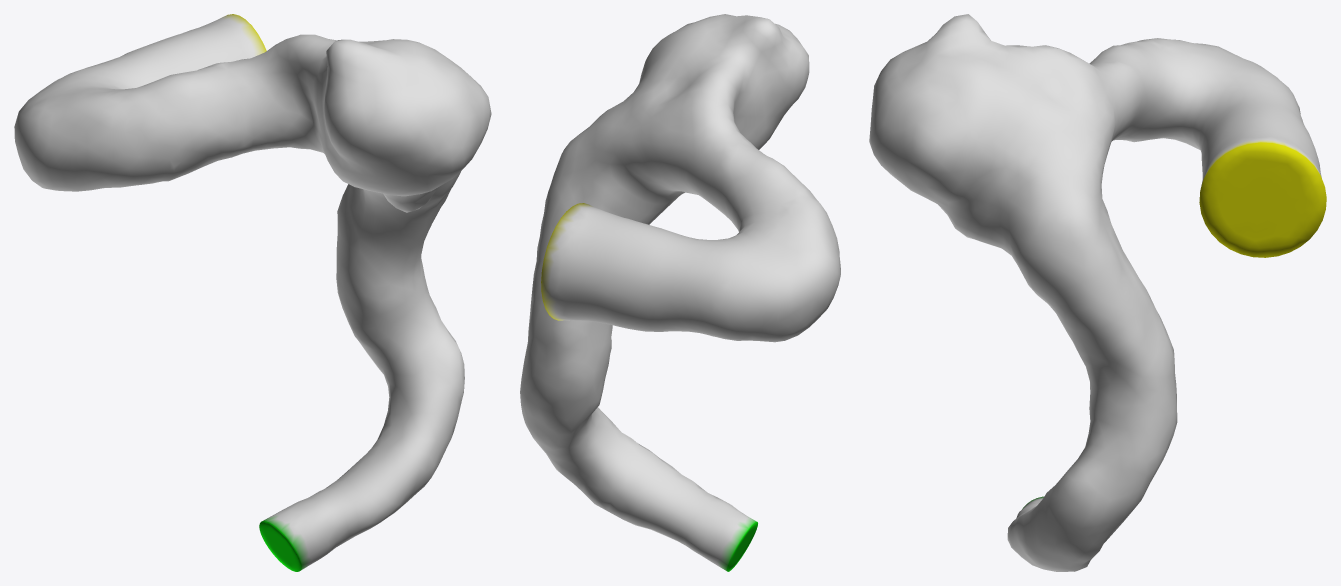
File: Artery.obj
The picture shows the model from 3 angles, left to right: view 1: azimuth 30°, elevation 25°; view 2: azimuth 150°, elevation 25°; view 3: azimuth 270°, elevation 25°; orthographic projection. The views are drawn at different scales.
Visible parts, largest first — view 1: mmGroup0; view 2: mmGroup0; view 3: mmGroup0.
Part boxes in pixels (x1,y1,x2,y2): mmGroup0: [14, 14, 491, 571]; mmGroup0: [520, 14, 840, 571]; mmGroup0: [869, 14, 1326, 571].
Bounding box in the file's own units: 16.08 × 22.72 × 17.27.
